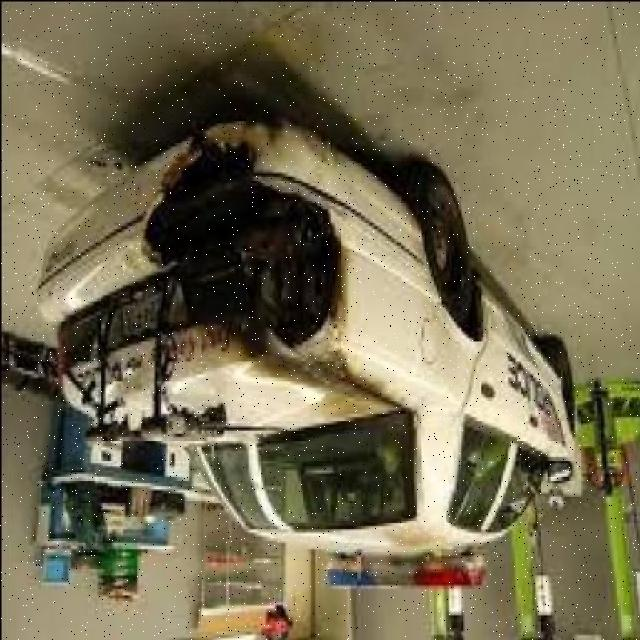damage: (120, 122, 421, 421)
